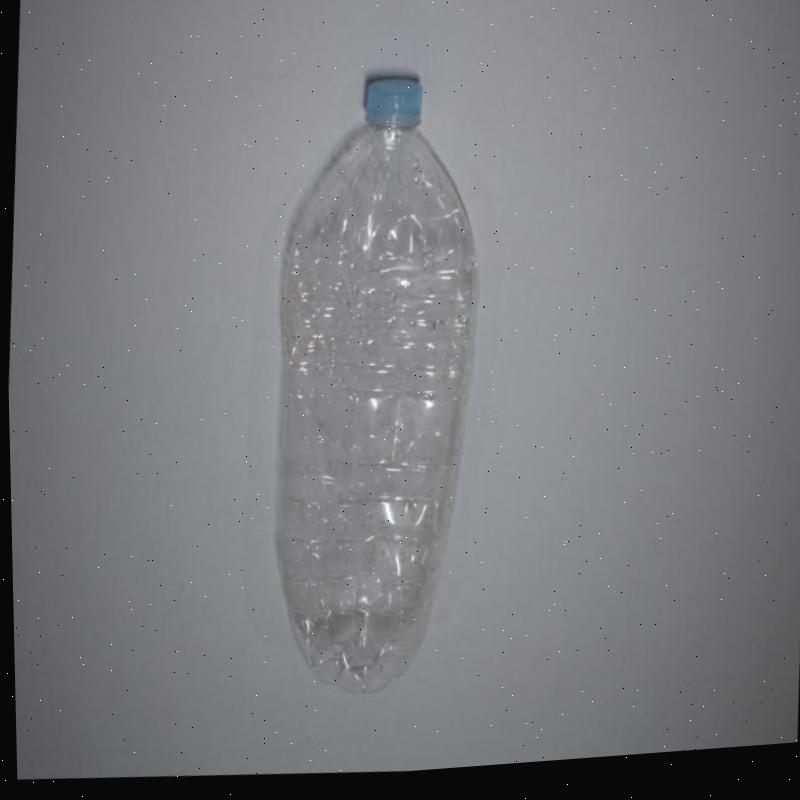botella: (257, 74, 494, 712)
